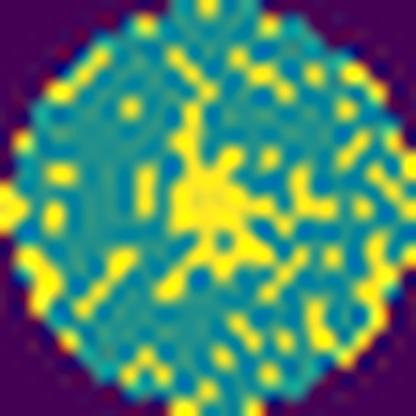Center: (150, 45, 342, 308)
